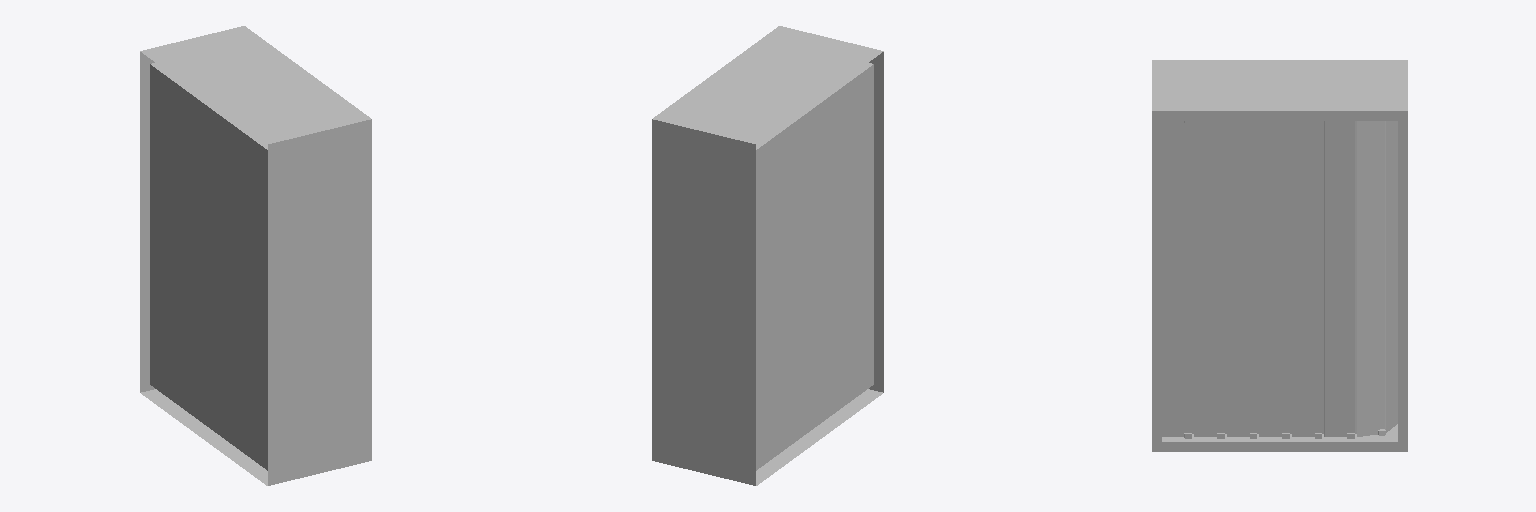
The model's file is distributionBox_Low.obj.
3 views of the same model, side by side, from view 1: azimuth 30°, elevation 25°; view 2: azimuth 150°, elevation 25°; view 3: azimuth 270°, elevation 25° (orthographic).
Visible parts, largest first — view 1: Low; view 2: Low; view 3: Low.
Part boxes in pixels (bbox=[...]): Low: bbox=[140, 26, 371, 485]; Low: bbox=[652, 26, 883, 485]; Low: bbox=[1152, 60, 1407, 451].
Bounding box in the file's own units: 0.9465 × 2.95 × 2.